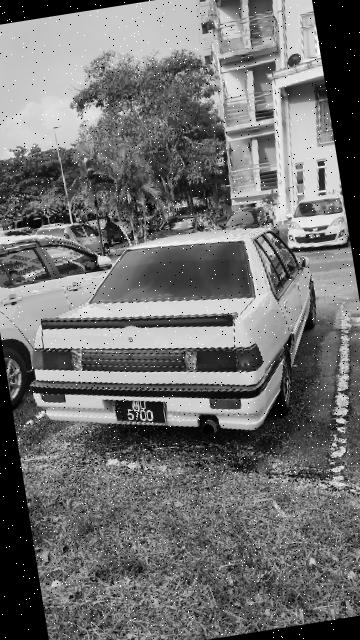License_Plate: (107, 392, 173, 438)
car: (21, 204, 342, 463), (1, 214, 137, 404), (286, 188, 354, 270)
